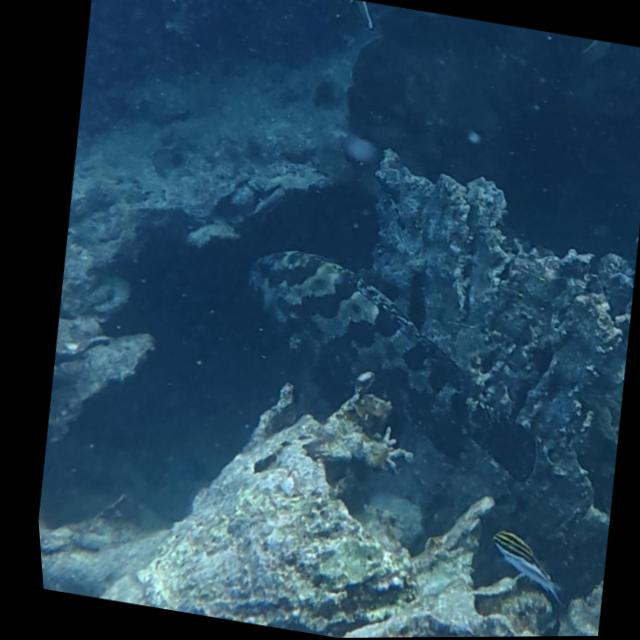Groupers: (210, 235, 572, 487)
